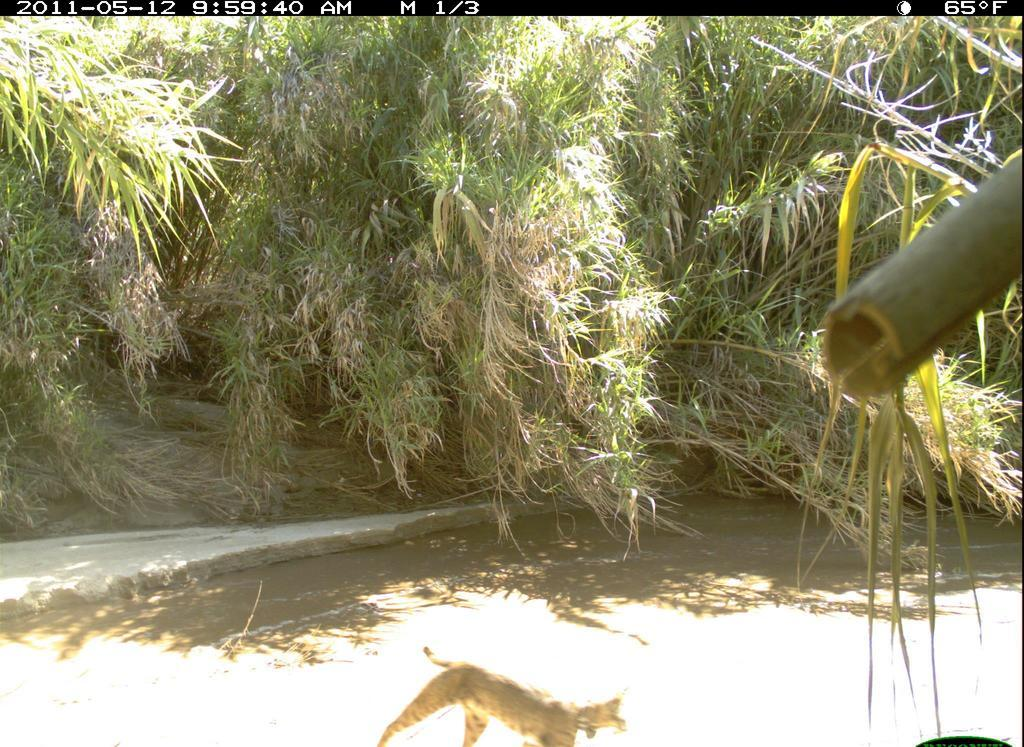bobcat: (356, 637, 648, 747)
